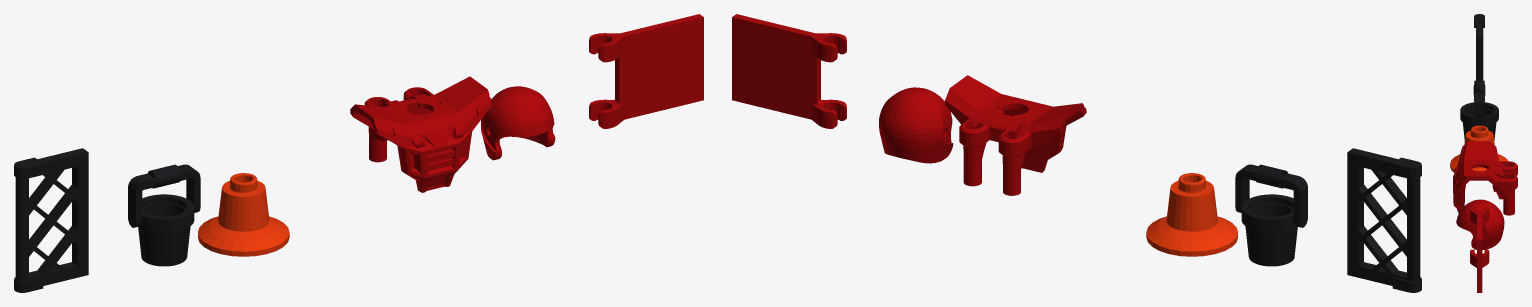
File: Zombie Extras.dae
The picture shows the model from 3 angles, left to right: view 1: azimuth 30°, elevation 25°; view 2: azimuth 150°, elevation 25°; view 3: azimuth 270°, elevation 25°; orthographic projection. The views are drawn at different scales.
Parts seen in each view (by area): view 1: Part.4, Part.7, Part.6, Part.5, Part.2, Part.0, Part.1, Part.3; view 2: Part.7, Part.4, Part.6, Part.5, Part.2, Part.0, Part.1, Part.3; view 3: Part.4, Part.5, Part.7, Part.2, Part.6, Part.3, Part.1, Part.0.
Boxes of the visible parts, <box> form: Part.4: <box>350,76,491,192</box>; Part.7: <box>589,14,703,128</box>; Part.6: <box>14,148,88,292</box>; Part.5: <box>481,86,555,160</box>; Part.2: <box>138,194,194,266</box>; Part.0: <box>198,216,289,256</box>; Part.1: <box>218,173,269,231</box>; Part.3: <box>128,164,200,227</box>; Part.7: <box>732,14,846,128</box>; Part.4: <box>945,75,1086,195</box>; Part.6: <box>1347,148,1421,292</box>; Part.5: <box>879,87,953,163</box>; Part.2: <box>1241,194,1297,266</box>; Part.0: <box>1146,216,1237,256</box>; Part.1: <box>1166,173,1217,231</box>; Part.3: <box>1235,164,1307,227</box>; Part.4: <box>1453,141,1517,215</box>; Part.5: <box>1456,199,1504,249</box>; Part.7: <box>1470,207,1489,292</box>; Part.2: <box>1460,102,1498,141</box>; Part.6: <box>1474,14,1484,101</box>; Part.3: <box>1473,80,1485,125</box>; Part.1: <box>1464,125,1494,145</box>; Part.0: <box>1450,154,1507,172</box>.
Size of the model in its own units: 138 by 24.68 by 18.39.
